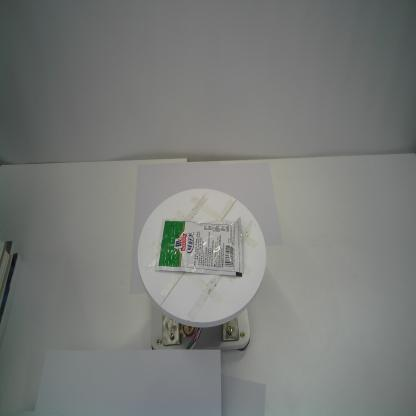Seasoner: (154, 217, 243, 277)
